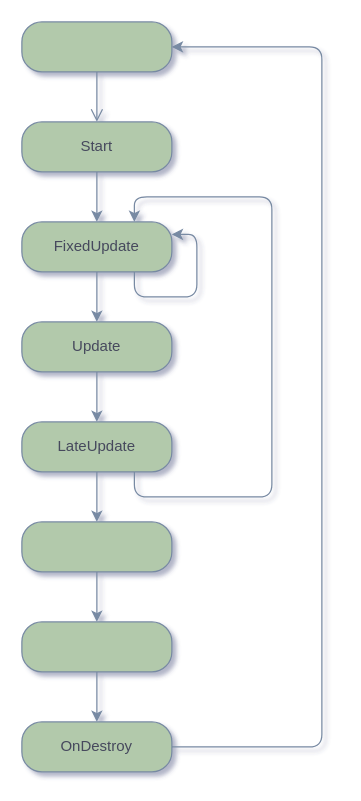
The diagram is 361 pixels wide and 801 high, and some of its shapes have lost their labels. The centre of each missing label's shape, as x and y in pixels:
"Awake" belongs at pixel 96 46.
"OnAplicationQuit" belongs at pixel 96 546.
"OnDisable" belongs at pixel 96 646.
